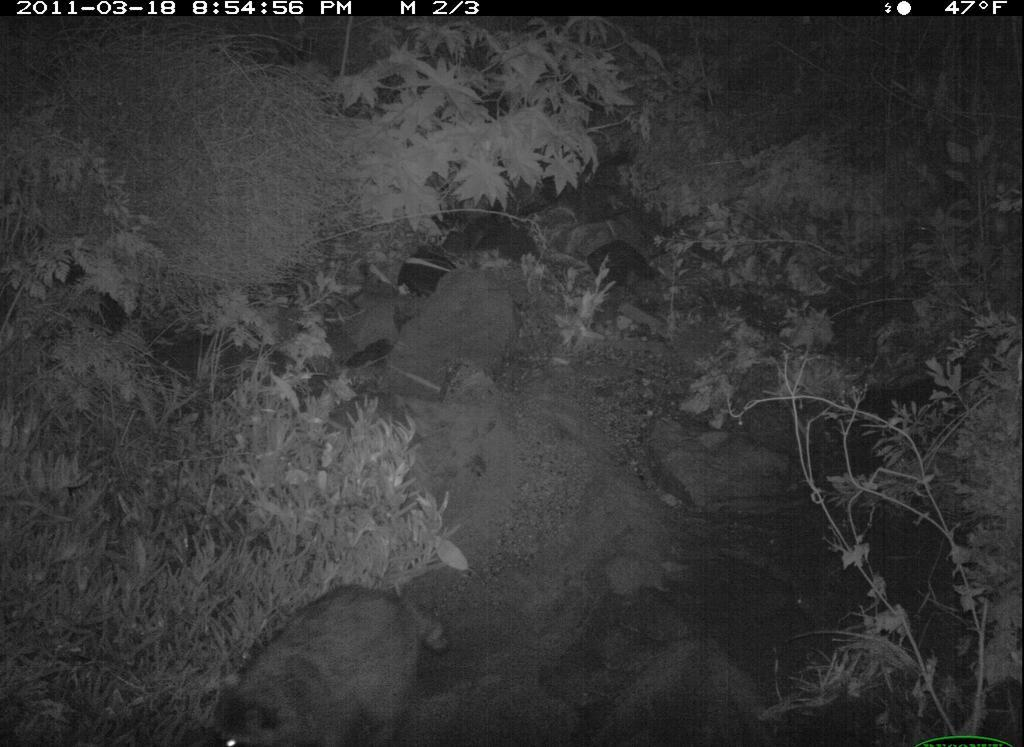raccoon: (209, 570, 446, 747)
